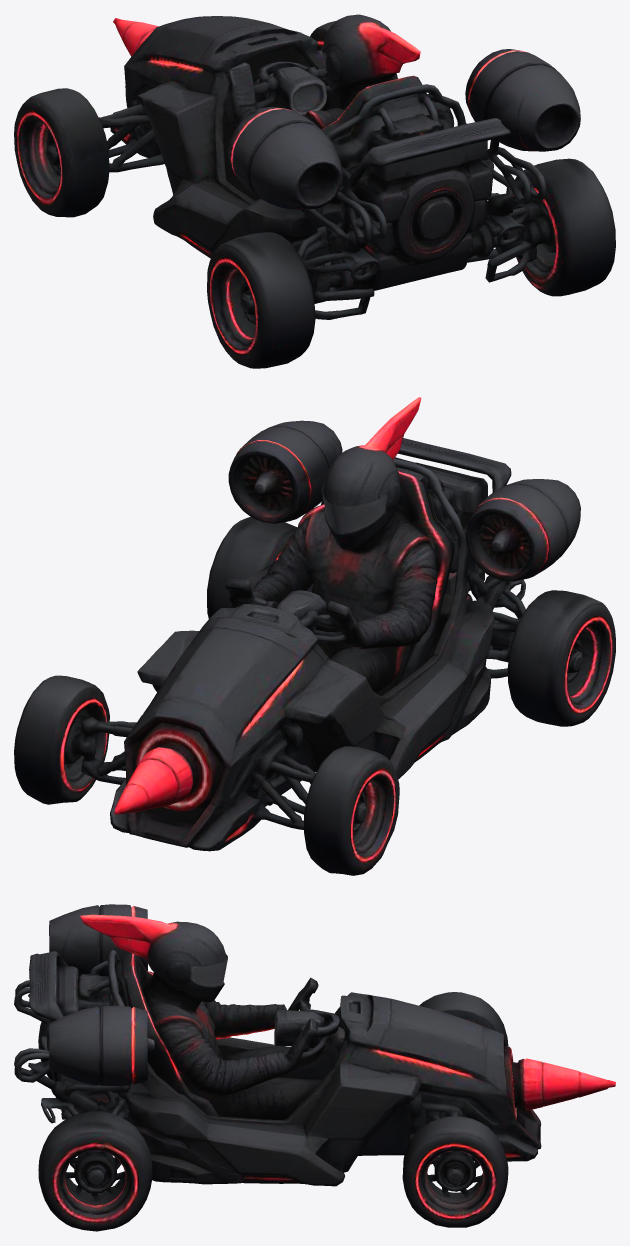
Rendered from nexus-dark.glb.
3 views of the same model, one above another, from view 1: azimuth 30°, elevation 25°; view 2: azimuth 150°, elevation 25°; view 3: azimuth 270°, elevation 25° (orthographic). The views are drawn at different scales.
Visible parts, largest first — view 1: chassis, wheel-rl, wheel-rr, wheel-fl; view 2: chassis, wheel-rl, wheel-fl, wheel-fr, wheel-rr; view 3: chassis, wheel-rr, wheel-fr, wheel-fl.
Boxes of the visible parts, x1,y1,x2,y2 form: chassis: [98, 14, 580, 319]; wheel-rl: [207, 232, 315, 368]; wheel-rr: [512, 158, 615, 296]; wheel-fl: [14, 88, 109, 217]; chassis: [24, 397, 580, 851]; wheel-rl: [507, 590, 615, 726]; wheel-fl: [304, 746, 399, 875]; wheel-fr: [14, 675, 109, 802]; wheel-rr: [207, 517, 296, 618]; chassis: [14, 904, 615, 1186]; wheel-rr: [38, 1111, 152, 1231]; wheel-fr: [402, 1116, 508, 1227]; wheel-fl: [419, 992, 508, 1046].
Bounding box in the file's own units: 2.7 × 2.01 × 4.5.
Materials: 1 (1 with a texture image).
